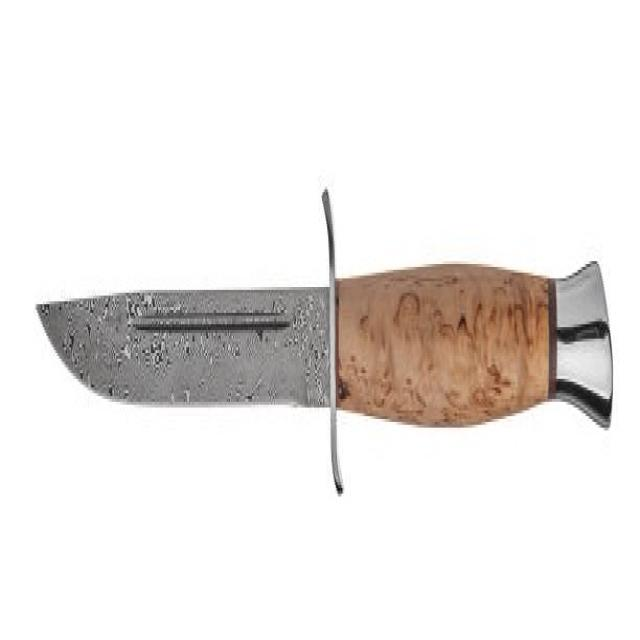knife: (25, 180, 622, 512)
